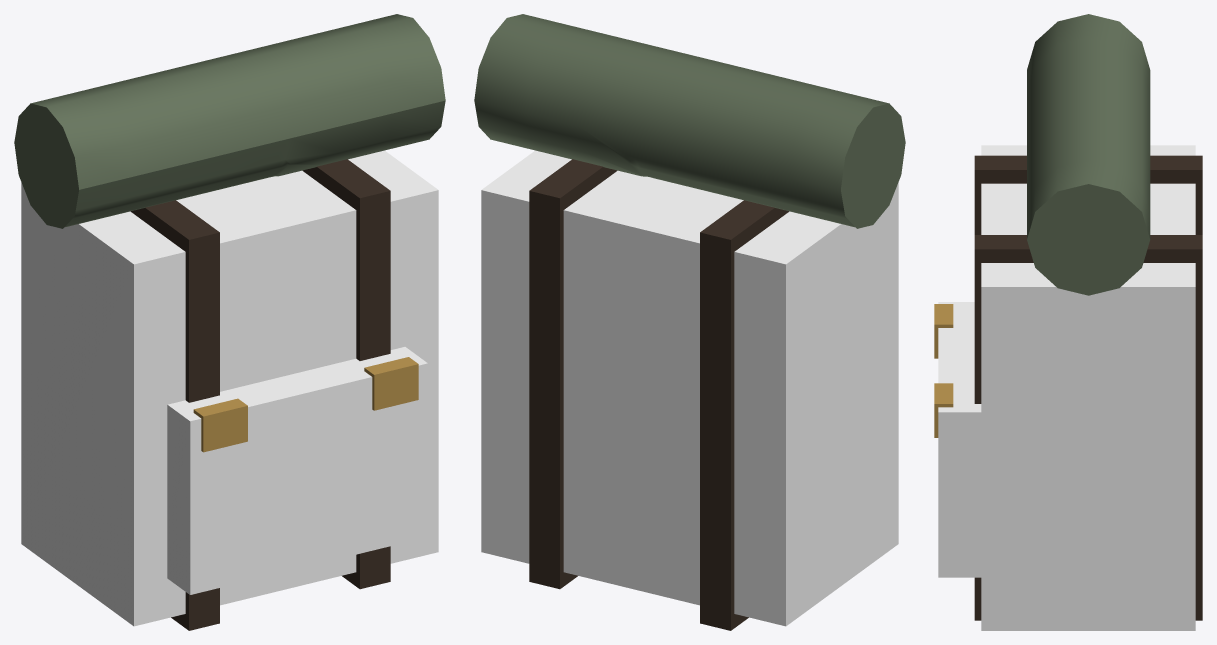
Rendered from backpack_ranger.glb.
The picture shows the model from 3 angles, left to right: view 1: azimuth 30°, elevation 25°; view 2: azimuth 150°, elevation 25°; view 3: azimuth 270°, elevation 25°; orthographic projection. The views are drawn at different scales.
Visible parts, largest first — view 1: Body, Bedroll, FrontPocket, Strap, Strap2, Buckle, Buckle2; view 2: Body, Bedroll, Strap, Strap2; view 3: Body, Bedroll, FrontPocket, Strap2, Strap, Buckle2, Buckle.
Boxes of the visible parts, x1,y1,x2,y2 form: Body: [21, 150, 438, 626]; Bedroll: [14, 14, 445, 228]; FrontPocket: [167, 347, 427, 594]; Strap: [130, 200, 219, 630]; Strap2: [302, 159, 390, 589]; Buckle: [193, 398, 247, 452]; Buckle2: [364, 357, 418, 410]; Body: [481, 150, 898, 626]; Bedroll: [474, 14, 905, 228]; Strap: [700, 200, 789, 630]; Strap2: [529, 159, 617, 589]; Body: [981, 145, 1195, 630]; Bedroll: [1027, 14, 1150, 295]; FrontPocket: [938, 302, 981, 577]; Strap2: [974, 235, 1202, 620]; Strap: [974, 155, 1202, 234]; Buckle2: [934, 383, 953, 437]; Buckle: [934, 304, 953, 358].
Bounding box in the file's own units: 0.535 × 0.6972 × 0.3565.
